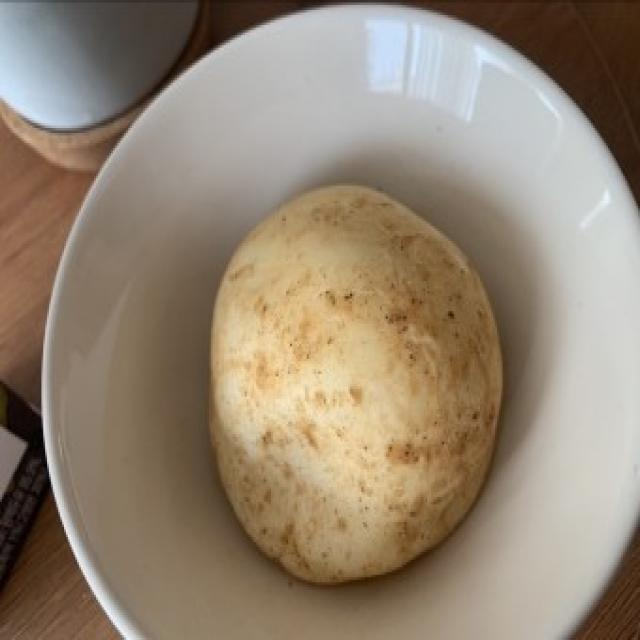potato: (203, 174, 515, 594)
